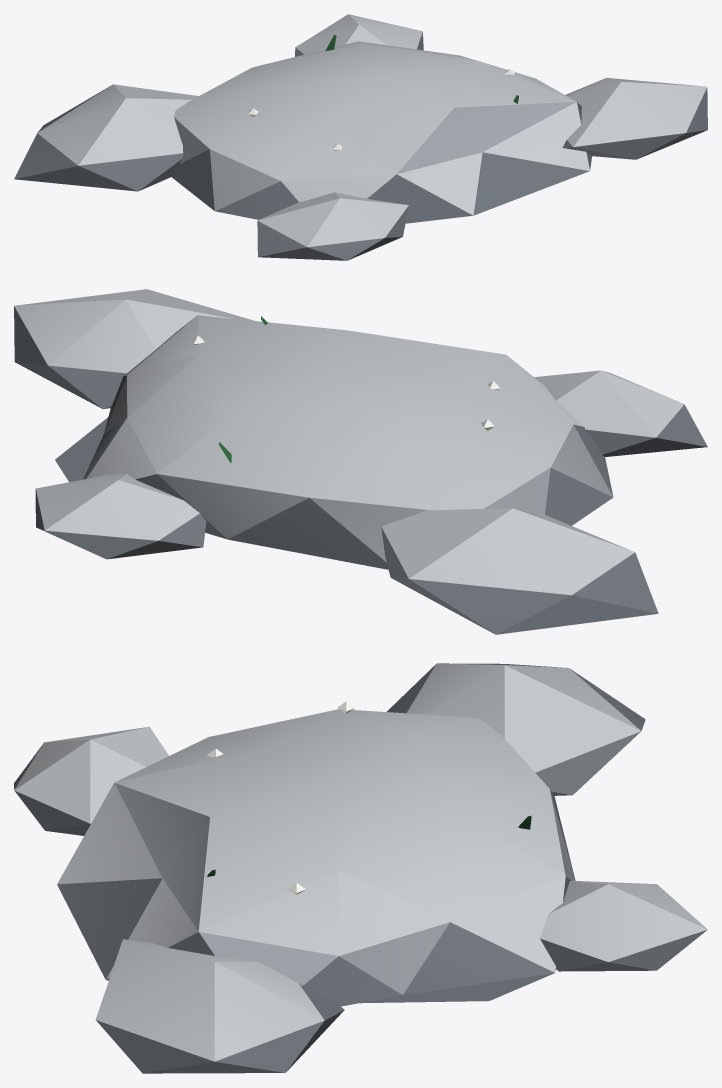
Rendered from RocasPlanas.fbx.
3 renders of one model, top to bottom at view 1: azimuth 30°, elevation 25°; view 2: azimuth 150°, elevation 25°; view 3: azimuth 270°, elevation 25°, orthographic. The views are drawn at different scales.
Parts seen in each view (by area): view 1: RocasPlanas; view 2: RocasPlanas; view 3: RocasPlanas.
Part boxes in pixels (box(x1,y1,x2,y2)): RocasPlanas: box(14, 14, 707, 260); RocasPlanas: box(14, 289, 707, 634); RocasPlanas: box(14, 663, 707, 1073).
Bounding box in the file's own units: 9.75 × 1.07 × 6.7.
1 material, 1 textured.
